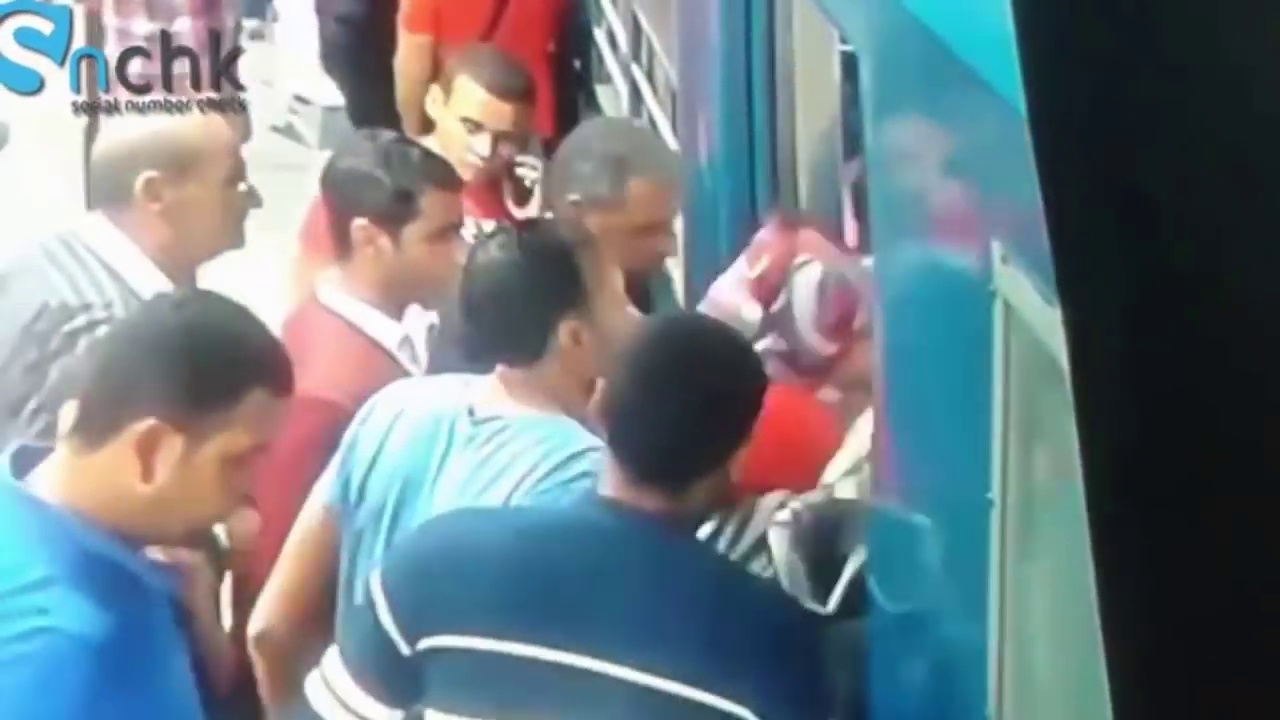face: (182, 394, 279, 534), (172, 127, 262, 268), (601, 178, 685, 280), (400, 195, 471, 297), (453, 107, 526, 190)
